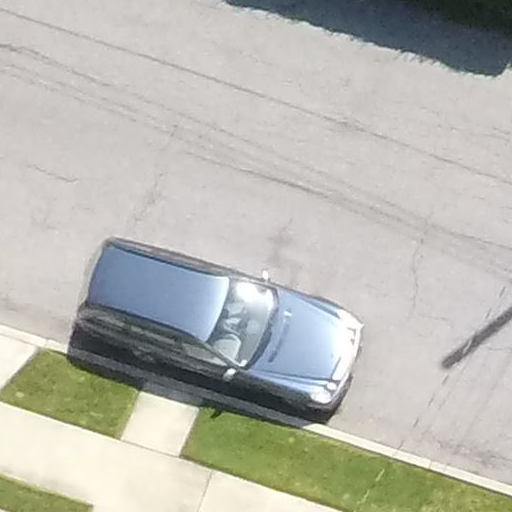car: (58, 210, 384, 473)
